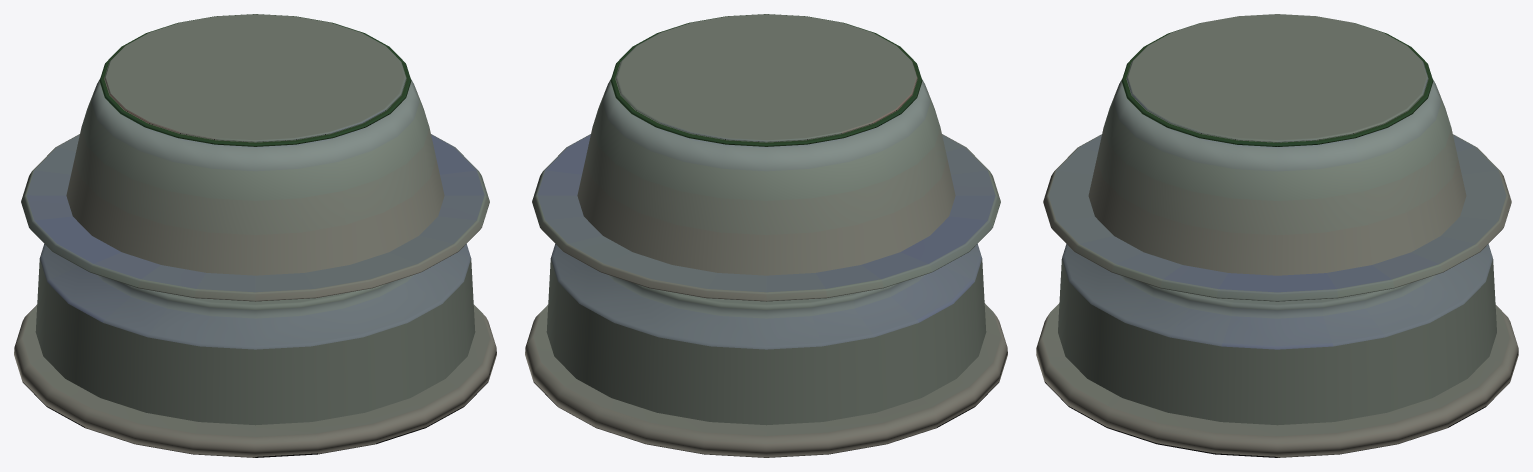
Rendered from Tile_S_Pl.fbx.
3 views of the same model, side by side, from view 1: azimuth 30°, elevation 25°; view 2: azimuth 150°, elevation 25°; view 3: azimuth 270°, elevation 25° (orthographic).
Parts seen in each view (by area): view 1: Tile_S_Pl, Tile_S_Pl (2); view 2: Tile_S_Pl, Tile_S_Pl (2); view 3: Tile_S_Pl, Tile_S_Pl (2).
Boxes of the visible parts, x1,y1,x2,y2 form: Tile_S_Pl: (21,14,489,301); Tile_S_Pl (2): (14,244,496,457); Tile_S_Pl: (532,14,1000,301); Tile_S_Pl (2): (525,244,1007,457); Tile_S_Pl: (1043,14,1511,301); Tile_S_Pl (2): (1036,244,1518,457).
Bounding box in the file's own units: 134 × 85.74 × 134.
